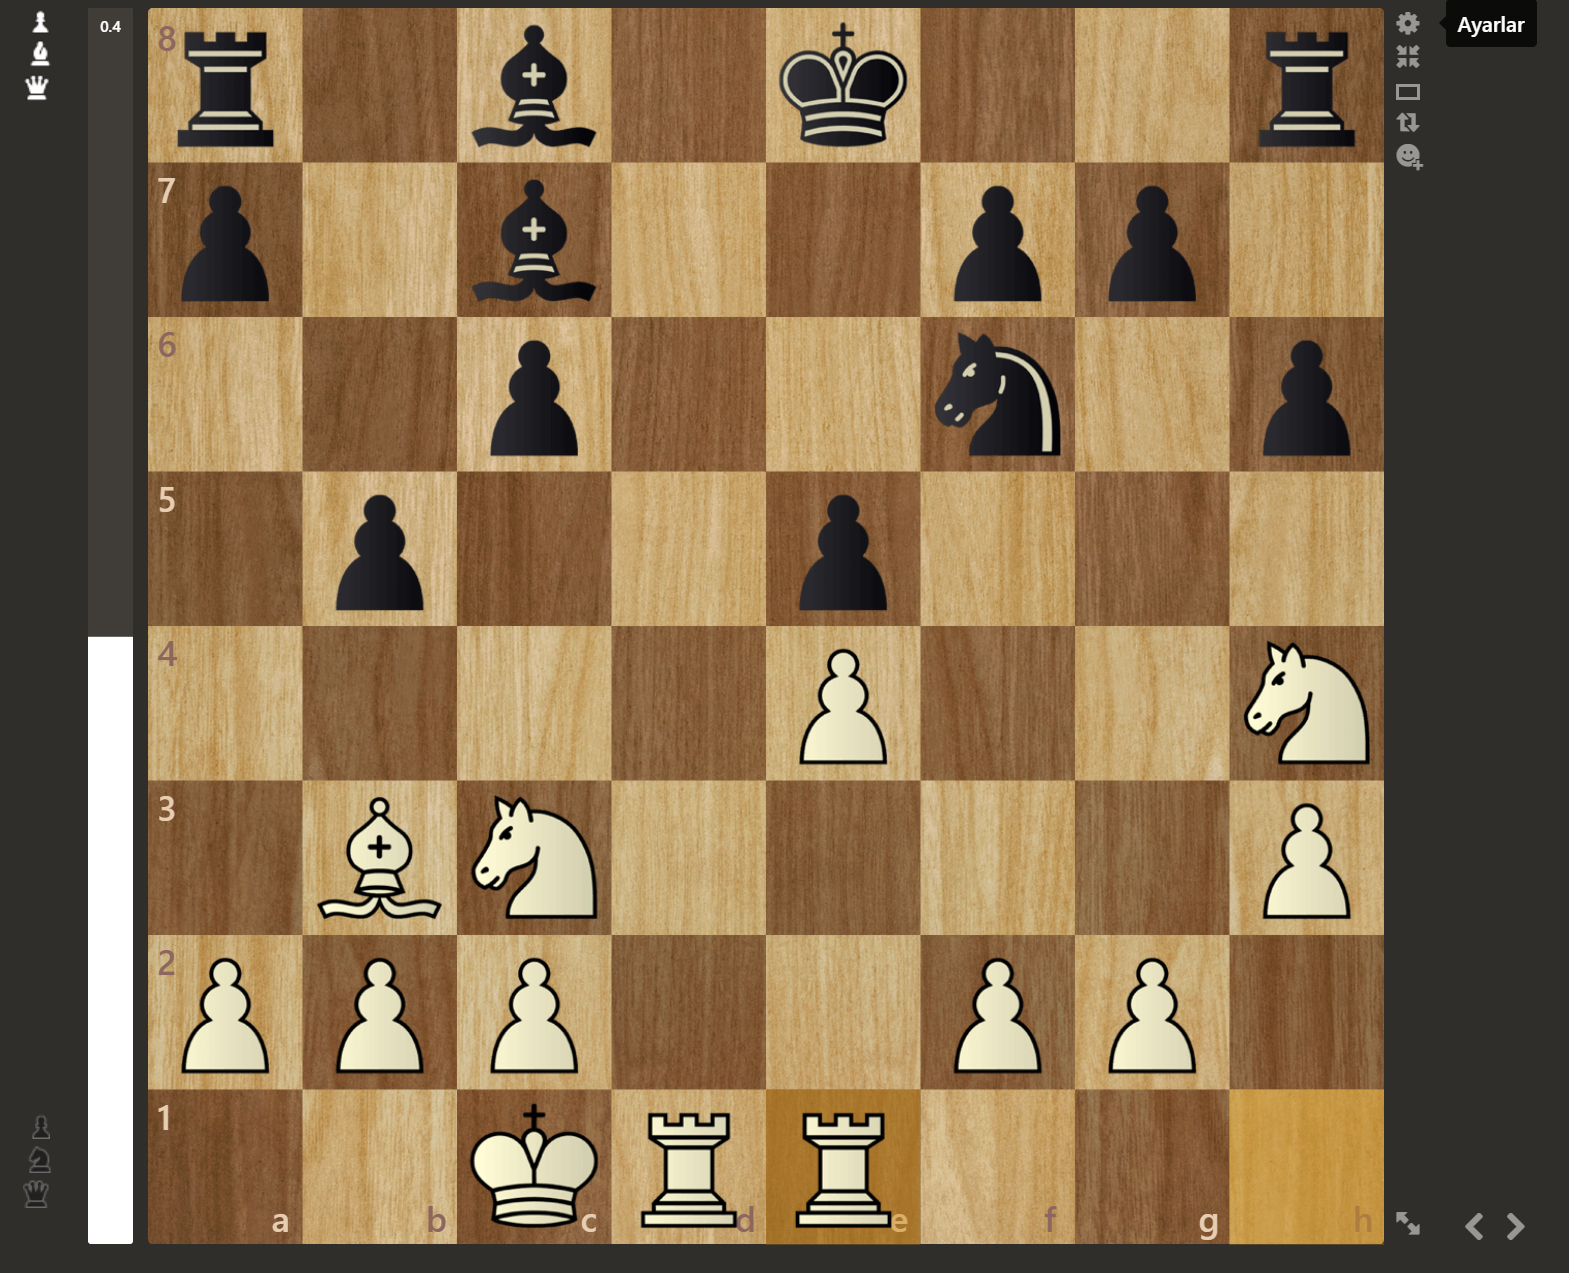beyaz_at: (1236, 633, 1381, 774), (461, 785, 601, 929)
beyaz_fil: (312, 786, 447, 921)
beyaz_kale: (779, 1098, 916, 1239), (627, 1096, 755, 1235)
beyaz_piyon: (934, 947, 1068, 1079), (775, 636, 907, 768), (317, 943, 443, 1079), (158, 943, 284, 1078), (1248, 792, 1372, 930), (1087, 948, 1214, 1079), (474, 944, 597, 1076)
beyaz_sah: (465, 1092, 609, 1235)
siyah_at: (923, 323, 1069, 468)
siyah_fil: (465, 13, 604, 151), (461, 171, 600, 308)
siyah_kale: (1242, 13, 1366, 157), (162, 13, 284, 155)
siyah_piyon: (462, 326, 607, 462), (310, 475, 447, 617), (1240, 326, 1374, 462), (933, 173, 1069, 303), (777, 481, 905, 618), (160, 171, 284, 305), (1096, 169, 1212, 308)
siyah_sah: (768, 10, 912, 155)
